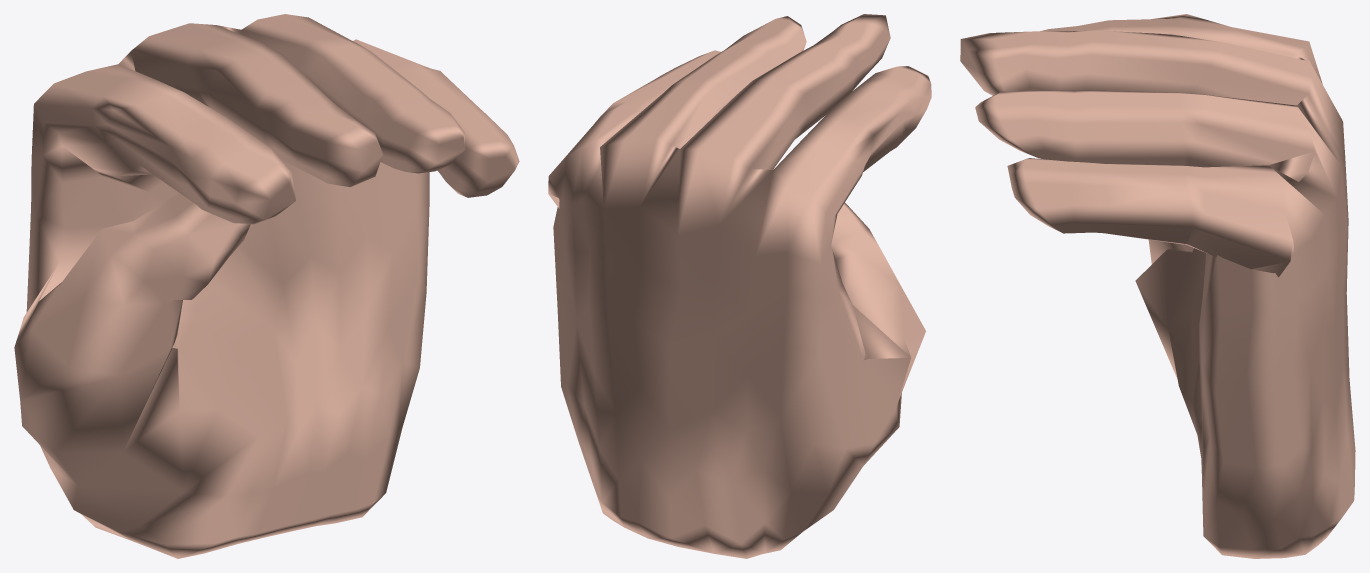
File: ANGULO_SEM_POLEGAR.obj
3 views of the same model, side by side, from view 1: azimuth 30°, elevation 25°; view 2: azimuth 150°, elevation 25°; view 3: azimuth 270°, elevation 25° (orthographic). The views are drawn at different scales.
Parts seen in each view (by area): view 1: mao_dir polySurface1; view 2: mao_dir polySurface1; view 3: mao_dir polySurface1.
Part boxes in pixels (x1=…): mao_dir polySurface1: x1=14, y1=14, x2=519, y2=558; mao_dir polySurface1: x1=548, y1=14, x2=931, y2=558; mao_dir polySurface1: x1=960, y1=14, x2=1355, y2=558.
Bounding box in the file's own units: 134 × 158 × 124.
